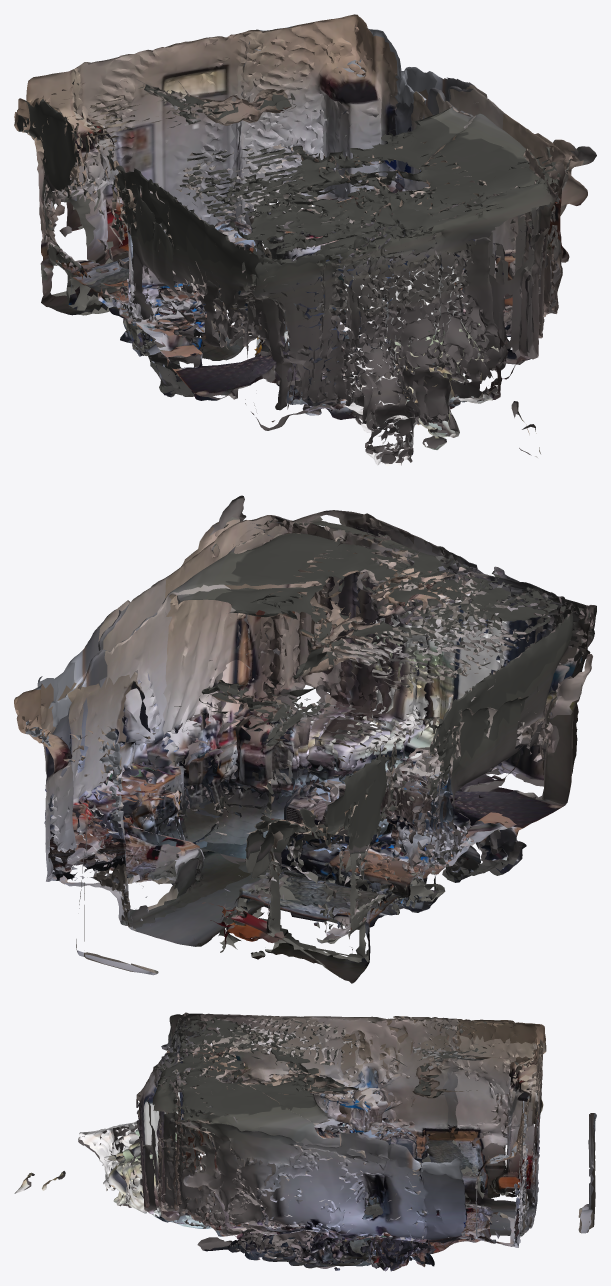
Rendered from final_stage2_model.glb.
3 renders of one model, top to bottom at view 1: azimuth 30°, elevation 25°; view 2: azimuth 150°, elevation 25°; view 3: azimuth 270°, elevation 25°, orthographic. The views are drawn at different scales.
Visible parts, largest first — view 1: final_stage2_model_canonical.obj; view 2: final_stage2_model_canonical.obj; view 3: final_stage2_model_canonical.obj.
Part boxes in pixels (x1,y1,x2,y2): final_stage2_model_canonical.obj: (14, 14, 596, 466); final_stage2_model_canonical.obj: (14, 495, 596, 983); final_stage2_model_canonical.obj: (14, 1012, 596, 1271).
Size of the model in its own units: 2.38 by 1.46 by 4.34.
1 material, 1 textured.
